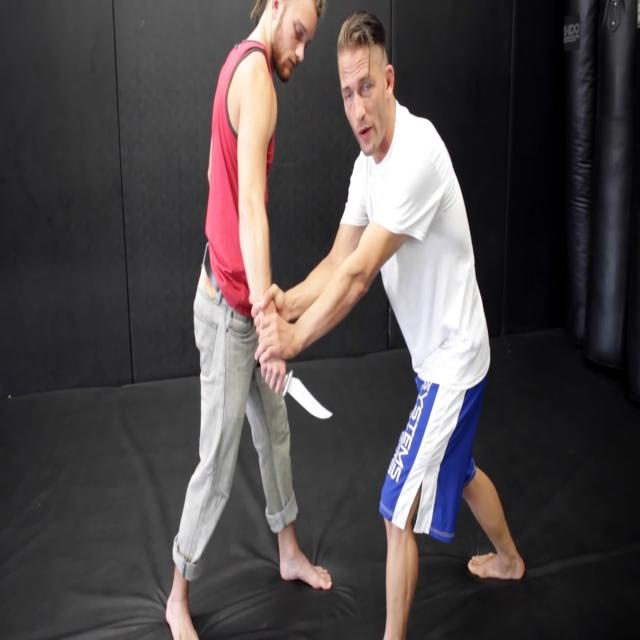knife: (281, 367, 335, 426)
